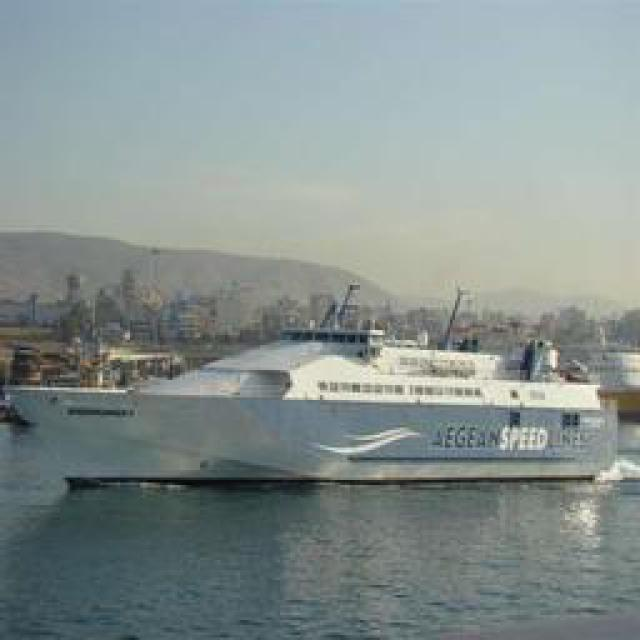Ship: (33, 310, 618, 488)
